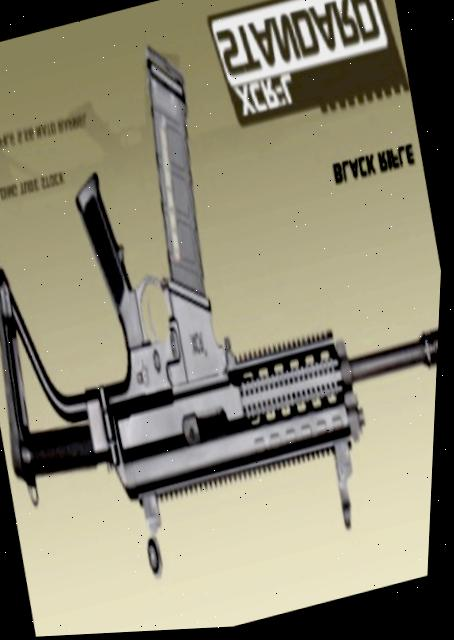rifle: (0, 0, 454, 626)
